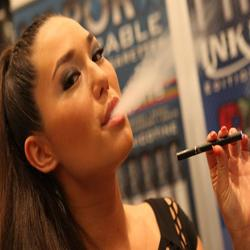cigarro: (169, 126, 243, 162)
fumador: (13, 11, 246, 234)
